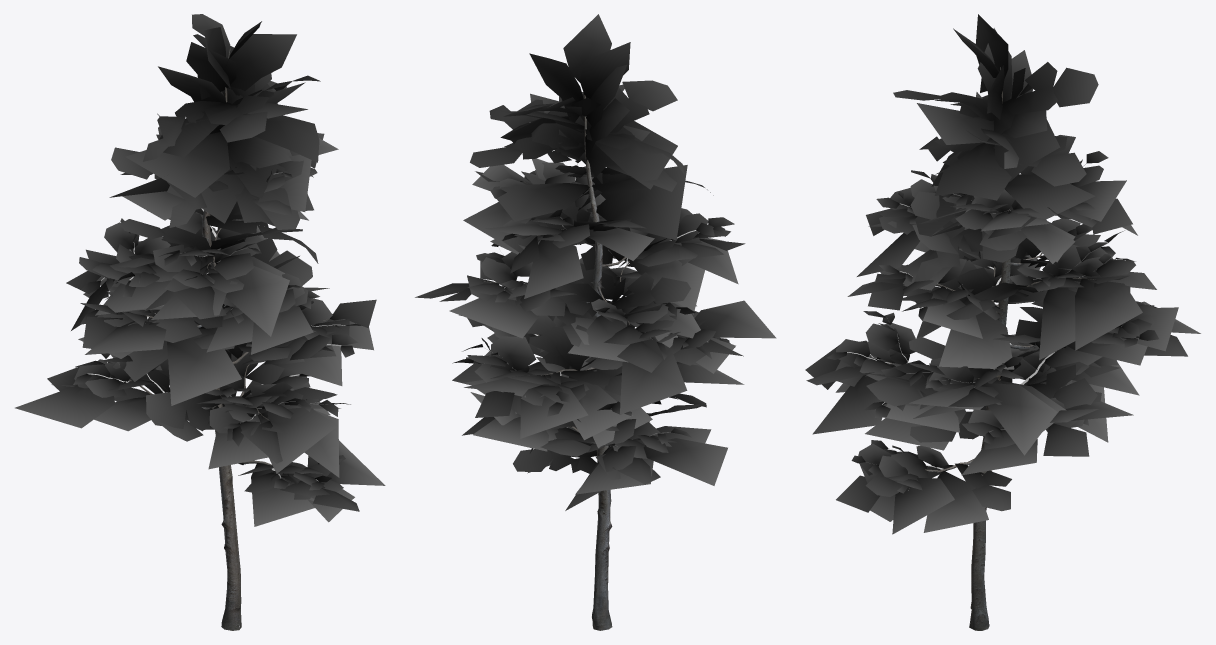
Rendered from beech_tree_01.FBX.
The picture shows the model from 3 angles, left to right: view 1: azimuth 30°, elevation 25°; view 2: azimuth 150°, elevation 25°; view 3: azimuth 270°, elevation 25°; orthographic projection. The views are drawn at different scales.
Visible parts, largest first — view 1: beech_tree_01_LOD0; view 2: beech_tree_01_LOD0; view 3: beech_tree_01_LOD0.
Boxes of the visible parts, box(x1,y1,x2,y2) form: beech_tree_01_LOD0: box(15, 14, 385, 630); beech_tree_01_LOD0: box(415, 14, 776, 630); beech_tree_01_LOD0: box(805, 14, 1200, 630).
Size of what is drawn, in the model's own units: 323 by 607 by 359.
